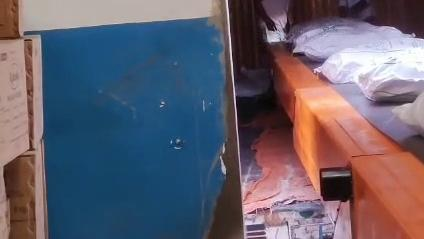box: (317, 37, 424, 82), (295, 23, 413, 61), (355, 48, 424, 102), (393, 91, 424, 136)
